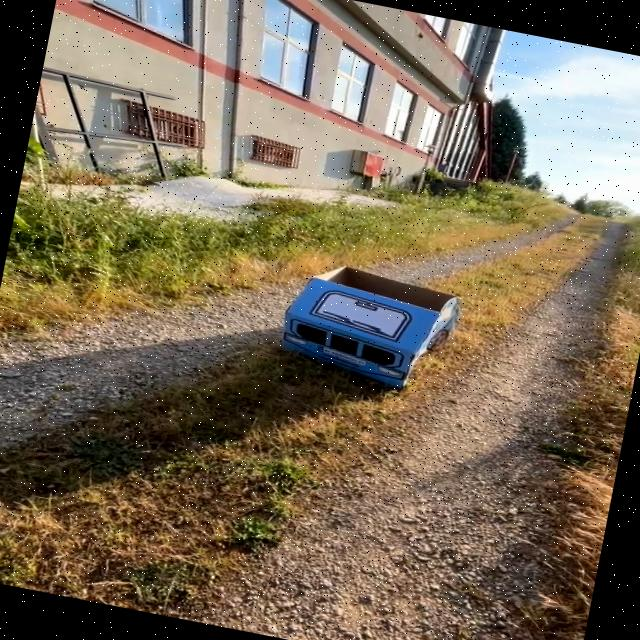blue_car: (232, 237, 504, 415)
